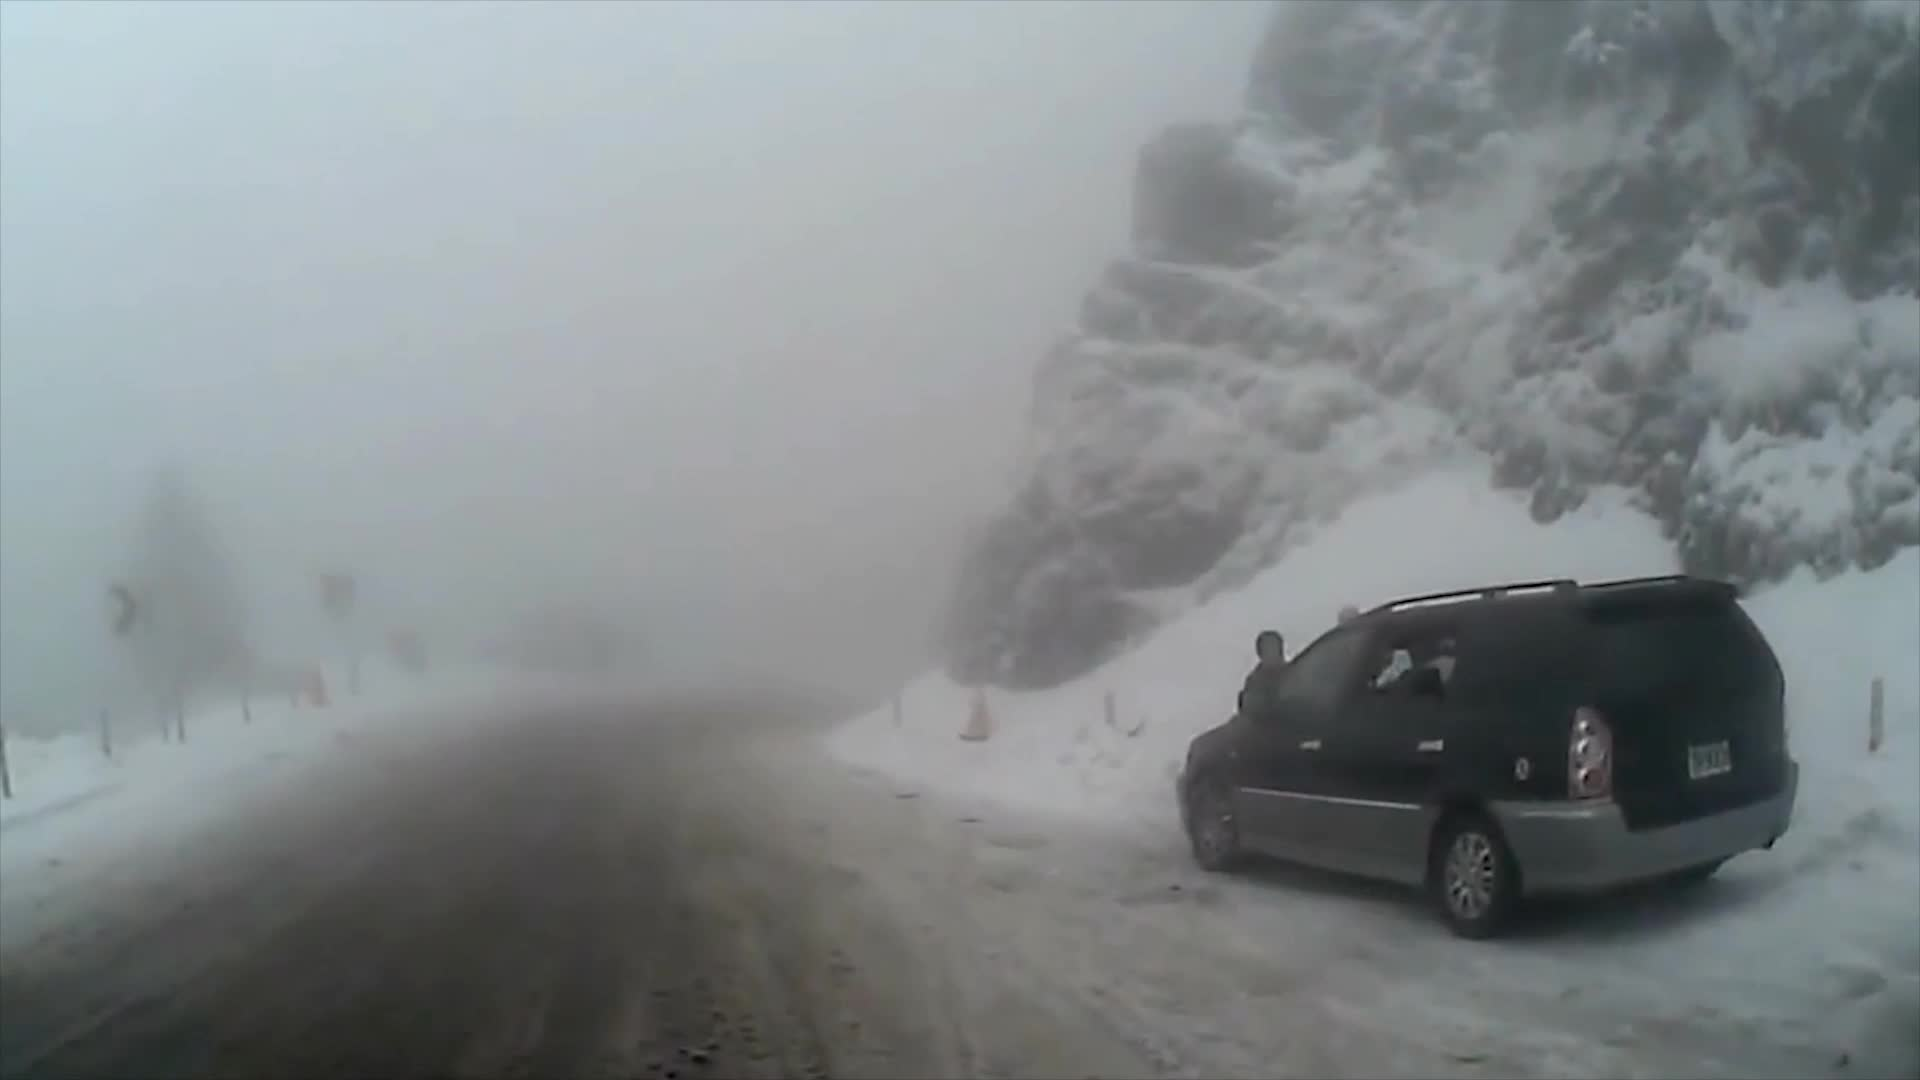pedestrian: (1239, 628, 1300, 828)
vehicle: (1170, 569, 1783, 938)
